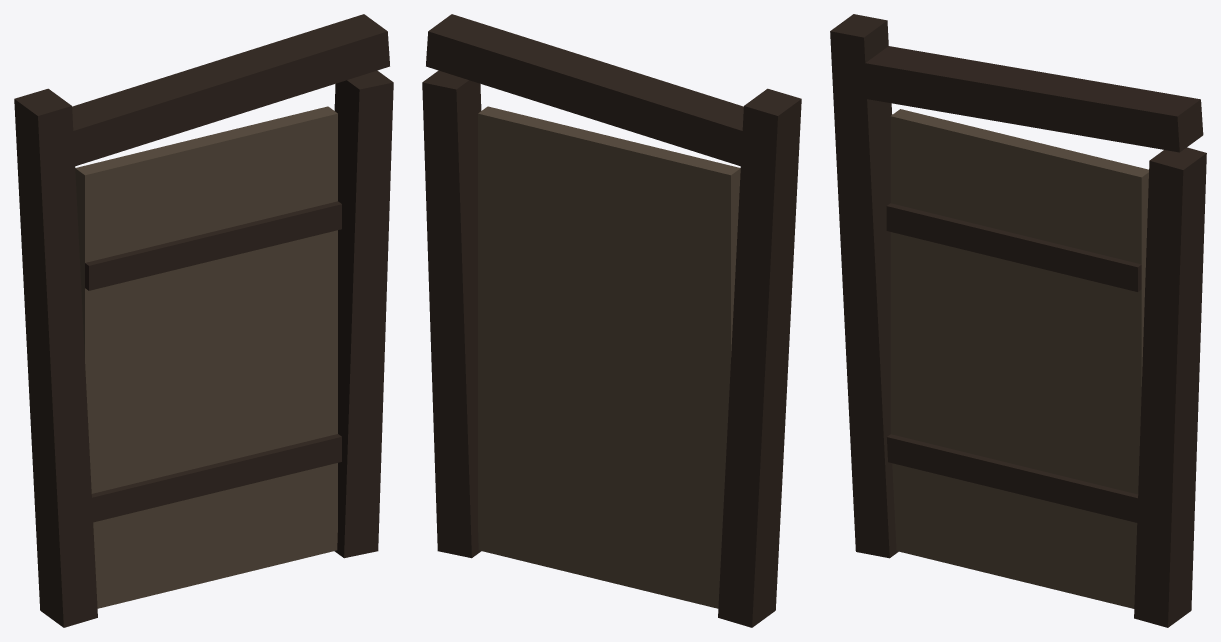
File: porta.glb
The picture shows the model from 3 angles, left to right: view 1: azimuth 30°, elevation 25°; view 2: azimuth 150°, elevation 25°; view 3: azimuth 330°, elevation 25°; orthographic projection.
Parts seen in each view (by area): view 1: porta, portal; view 2: porta, portal; view 3: porta, portal.
Boxes of the visible parts, x1,y1,x2,y2 form: porta: (75,106,341,608); portal: (14,14,393,627); porta: (478,106,740,608); portal: (422,14,801,627); porta: (886,109,1148,608); portal: (830,14,1206,627).
Size of the model in its own units: 1.04 by 1.45 by 0.12.
